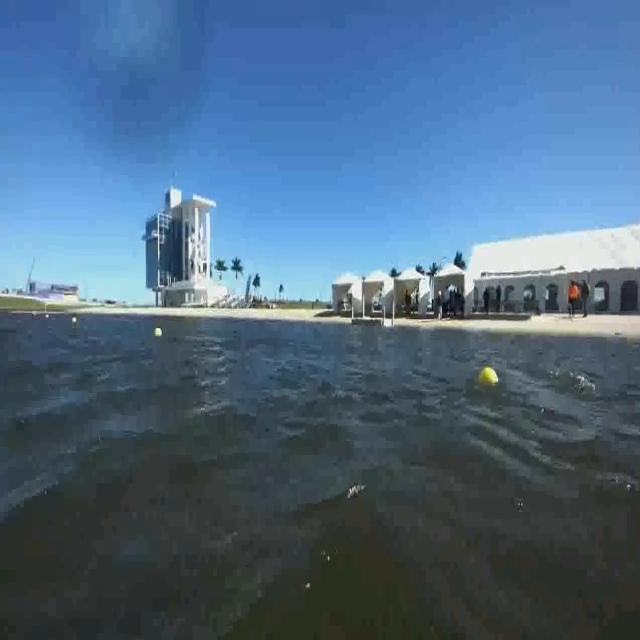yellow-buoy: (479, 366, 500, 386), (153, 324, 163, 339)
